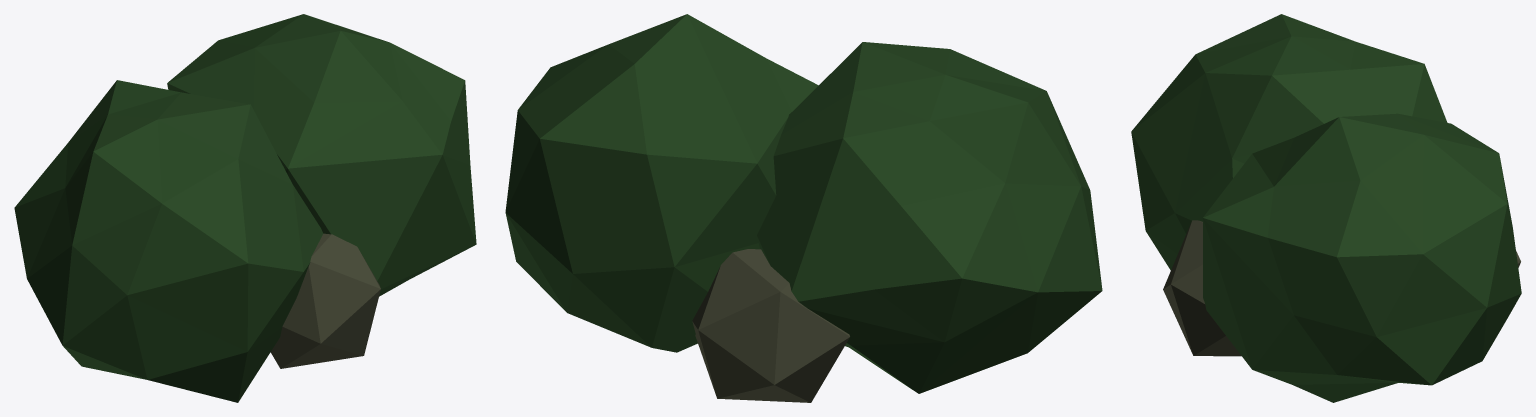
The model's file is bushes.fbx.
3 views of the same model, side by side, from view 1: azimuth 30°, elevation 25°; view 2: azimuth 150°, elevation 25°; view 3: azimuth 270°, elevation 25° (orthographic). The views are drawn at different scales.
Visible parts, largest first — view 1: Icosphere.012; view 2: Icosphere.012; view 3: Icosphere.012.
Part boxes in pixels (x1,y1,x2,y2): Icosphere.012: (14,14,476,402); Icosphere.012: (505,14,1102,402); Icosphere.012: (1131,14,1521,402).
Size of the model in its own units: 344 by 209 by 257.
